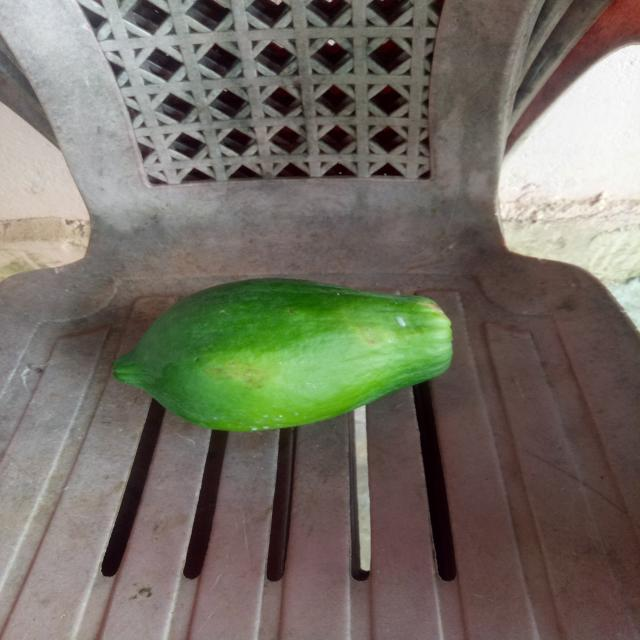Pepaya unrippen: (112, 280, 466, 436)
